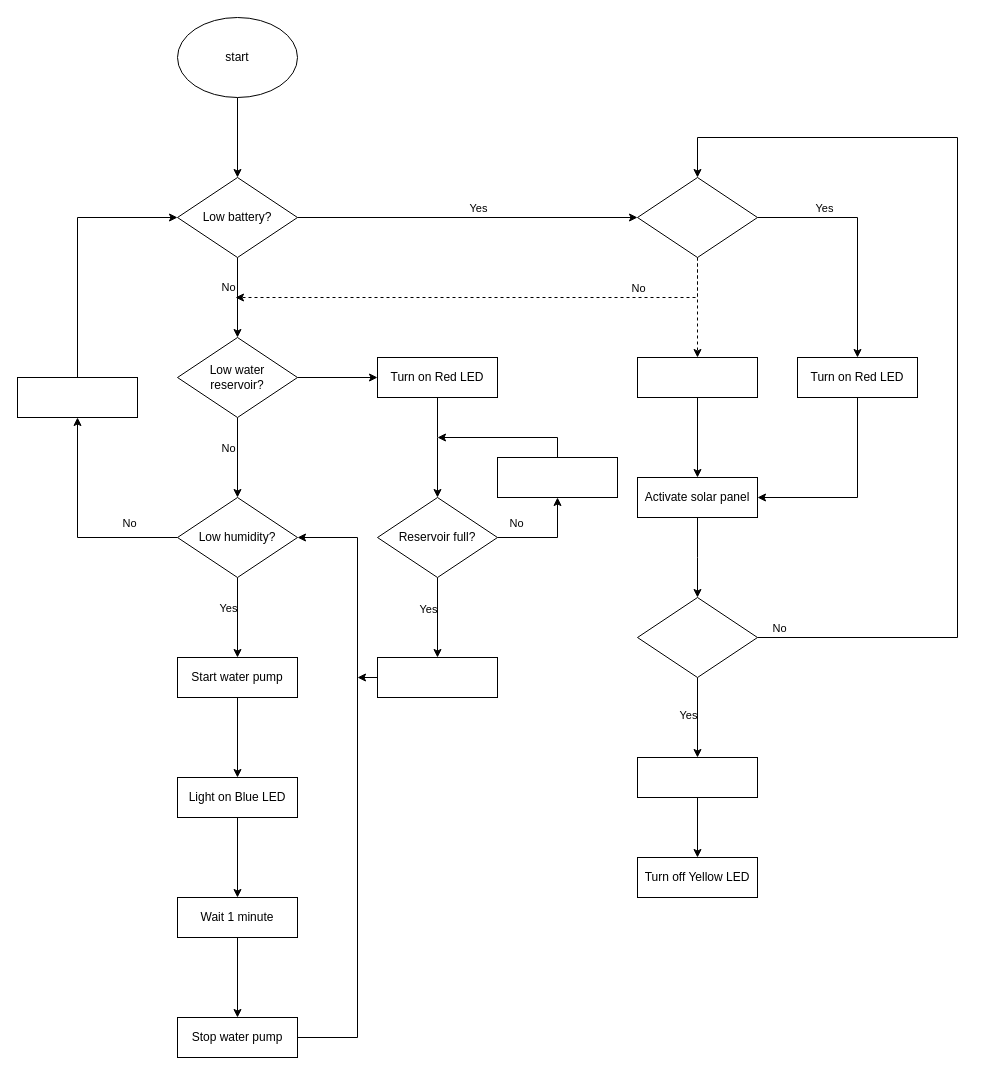
This 983x1075 diagram has some shape labels left out. The centre of each missing label's shape, as x and y in pixels:
Battery full?: (x=697, y=637)
Critical low?: (x=697, y=217)
Deactivate solar panel: (x=697, y=777)
Turn off Red LED: (x=437, y=677)
Turn on Yellow LED: (x=697, y=377)
Wait 30 minutes: (x=557, y=477)
Wait 4 hours (configurable): (x=77, y=397)
